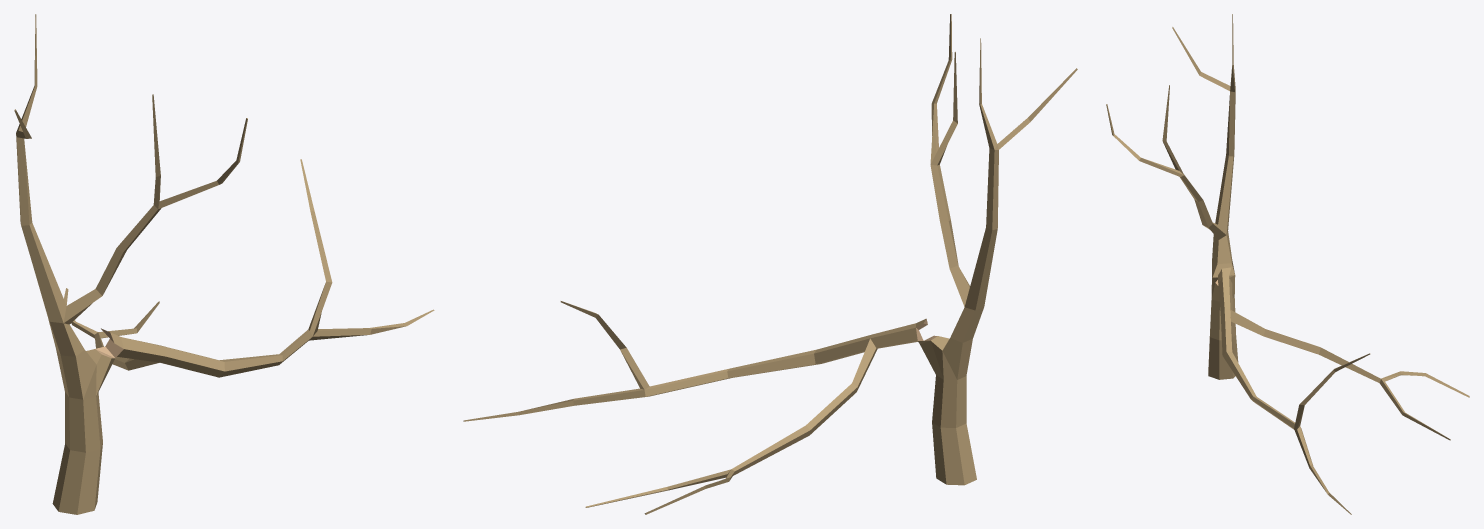
Rendered from Acacia_Tree_NoLeaves_crk_l_BT_02.fbx.
3 views of the same model, side by side, from view 1: azimuth 30°, elevation 25°; view 2: azimuth 150°, elevation 25°; view 3: azimuth 270°, elevation 25° (orthographic). The views are drawn at different scales.
Visible parts, largest first — view 1: Acacia_Tree_NoLeaves_crk_l_BT_02; view 2: Acacia_Tree_NoLeaves_crk_l_BT_02; view 3: Acacia_Tree_NoLeaves_crk_l_BT_02.
Boxes of the visible parts, x1=… form: Acacia_Tree_NoLeaves_crk_l_BT_02: x1=14, y1=14, x2=434, y2=514; Acacia_Tree_NoLeaves_crk_l_BT_02: x1=463, y1=14, x2=1077, y2=514; Acacia_Tree_NoLeaves_crk_l_BT_02: x1=1106, y1=14, x2=1469, y2=514.
Bounding box in the file's own units: 1207 × 1041 × 987.
